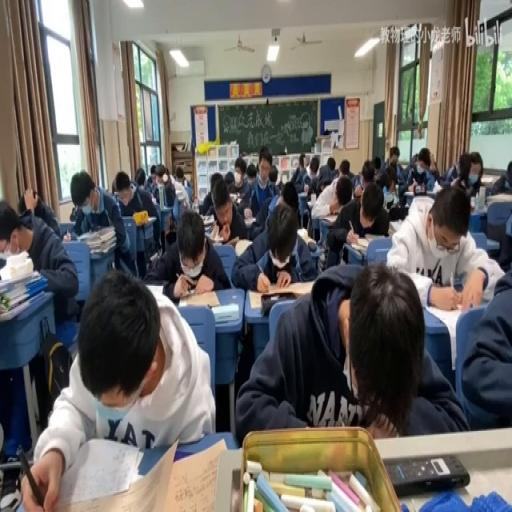calculator: (157, 436, 227, 510), (248, 279, 315, 304), (179, 287, 219, 307), (407, 193, 436, 215), (210, 302, 238, 322), (210, 224, 236, 242), (140, 282, 166, 298), (234, 236, 252, 256), (296, 224, 312, 244), (134, 213, 158, 226), (349, 238, 368, 253), (365, 232, 387, 243), (202, 216, 214, 235), (320, 213, 339, 225), (384, 192, 396, 206), (388, 220, 398, 234), (242, 214, 256, 224), (307, 239, 317, 250), (480, 175, 493, 183), (149, 250, 159, 260), (306, 196, 315, 206), (229, 193, 238, 202), (298, 190, 308, 198), (404, 189, 414, 194)
paper: (23, 268, 211, 510), (234, 259, 458, 439), (384, 182, 502, 314), (0, 195, 78, 323), (229, 195, 315, 286), (147, 206, 230, 299), (70, 171, 130, 276), (325, 178, 389, 260), (486, 191, 512, 270), (442, 151, 484, 196), (404, 144, 438, 196), (200, 168, 230, 218), (148, 164, 176, 206), (228, 156, 250, 206), (378, 148, 403, 190), (488, 158, 510, 195), (315, 154, 337, 189), (290, 155, 310, 193), (278, 179, 298, 212), (334, 175, 352, 205), (16, 192, 34, 215), (386, 205, 408, 222), (174, 189, 188, 212), (134, 165, 146, 188), (361, 165, 374, 186), (245, 162, 256, 186), (174, 165, 185, 186), (338, 159, 350, 178), (267, 165, 277, 183), (372, 154, 382, 172), (309, 158, 318, 173), (111, 178, 118, 193), (150, 163, 156, 175), (413, 151, 418, 162), (182, 178, 188, 186)
person: (384, 452, 470, 494), (0, 458, 26, 509), (206, 302, 217, 307)
